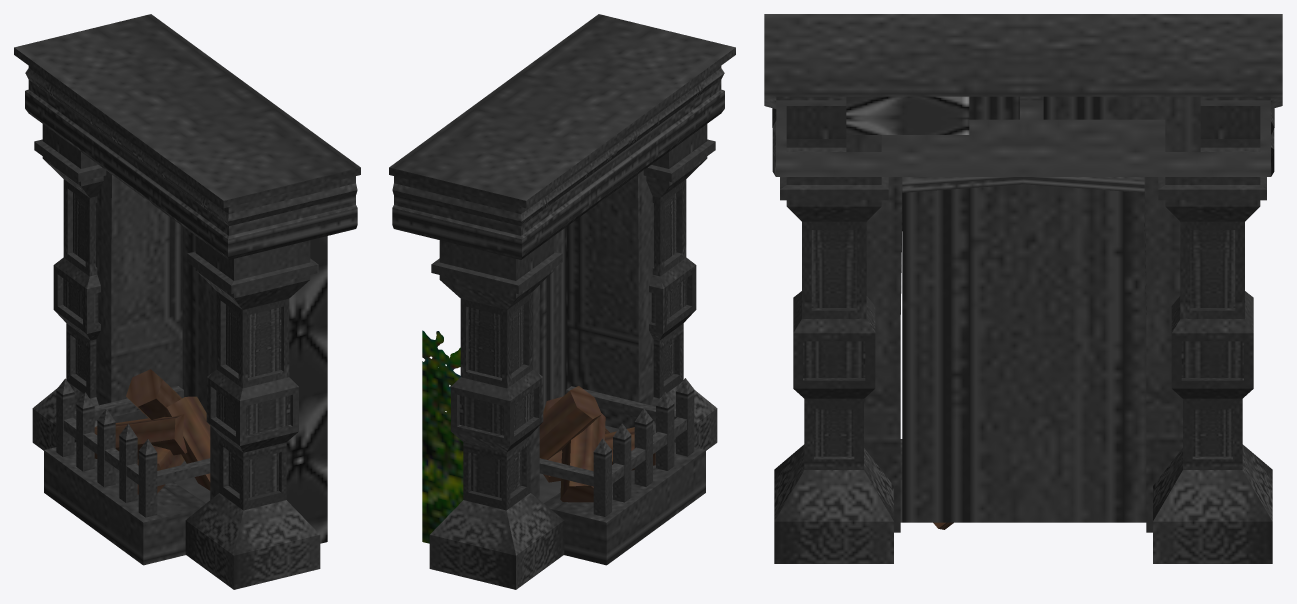
The model's file is Fireplace.fbx.
3 renders of one model, left to right at view 1: azimuth 30°, elevation 25°; view 2: azimuth 150°, elevation 25°; view 3: azimuth 270°, elevation 25°, orthographic. The views are drawn at different scales.
Visible parts, largest first — view 1: Cube.011; view 2: Cube.011; view 3: Cube.011.
Boxes of the visible parts, left/top/right/bottom form: Cube.011: left=14, top=14, right=360, bottom=589; Cube.011: left=389, top=14, right=735, bottom=589; Cube.011: left=764, top=14, right=1282, bottom=563.
Bounding box in the file's own units: 88.52 × 208 × 198.
Materials: 1 (1 with a texture image).
